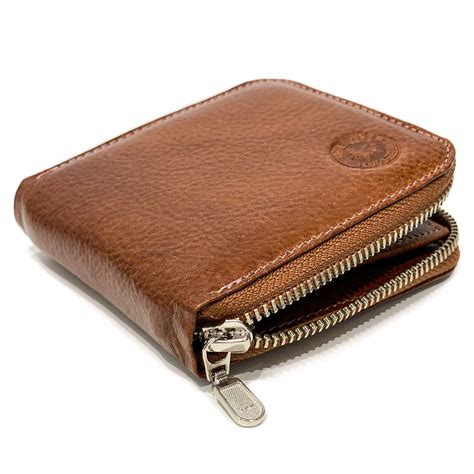cuero: (13, 79, 458, 374)
